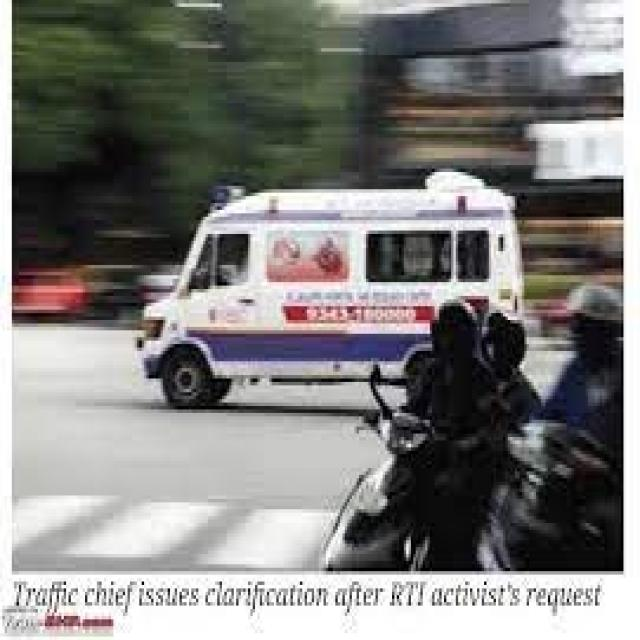ambulance: (141, 172, 483, 320)
